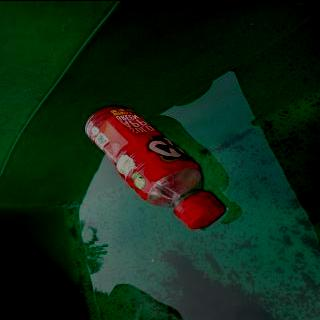bottle: (83, 103, 228, 230)
